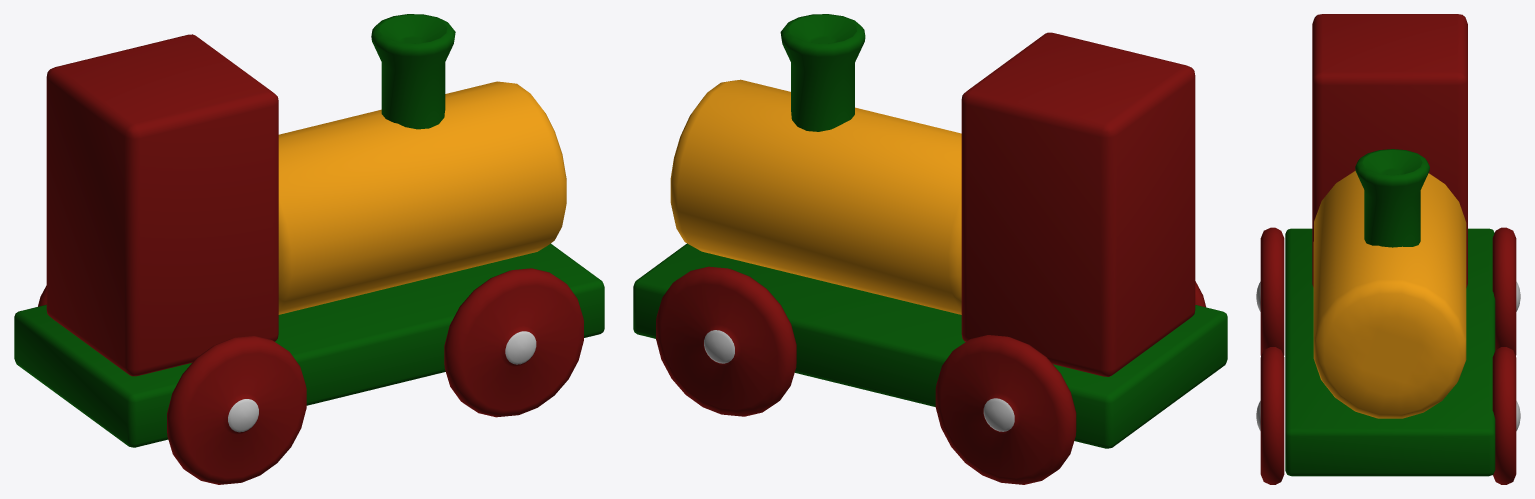
Rendered from train.obj.
3 views of the same model, side by side, from view 1: azimuth 30°, elevation 25°; view 2: azimuth 150°, elevation 25°; view 3: azimuth 270°, elevation 25° (orthographic). The views are drawn at different scales.
Visible parts, largest first — view 1: _3, _1, _2, object 1, _5, _4; view 2: _3, _1, object 1, _2, _5, _4; view 3: _1, _2, _3, object 1, _5, _4.
Part boxes in pixels (<box>): _3: <box>46,34,278,376</box>; _1: <box>278,81,566,314</box>; _2: <box>14,243,604,447</box>; object 1: <box>38,268,583,484</box>; _5: <box>371,14,455,129</box>; _4: <box>228,331,536,432</box>; _3: <box>961,32,1195,376</box>; _1: <box>670,79,961,314</box>; object 1: <box>656,266,1205,484</box>; _2: <box>633,243,1227,448</box>; _5: <box>780,14,865,131</box>; _4: <box>704,330,1014,431</box>; _1: <box>1313,171,1466,418</box>; _2: <box>1285,228,1495,476</box>; _3: <box>1312,14,1467,287</box>; object 1: <box>1260,227,1516,484</box>; _5: <box>1355,149,1429,247</box>; _4: <box>1256,281,1520,430</box>.
Bounding box in the file's own units: 1.86 × 1.33 × 1.02.
